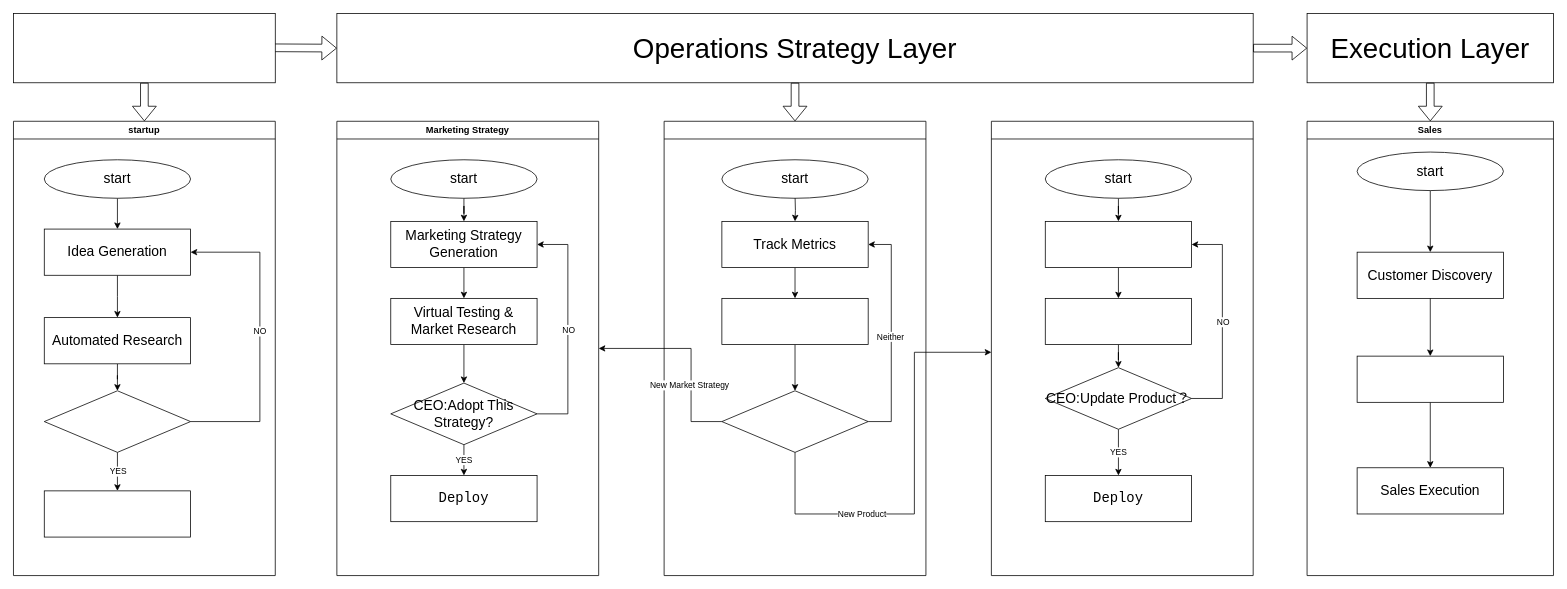
The diagram is 1567 pixels wide and 589 high, and some of its shapes have lost their labels. The shapes that lost their labels are listed below. From the top down, each one's box as (x1, y1, x2, y2) in pixels, then its label:
(13, 13, 275, 83): Startup Layer
(1045, 221, 1192, 268): Generate Product Strategy
(721, 298, 868, 345): Data Analysis
(1045, 298, 1192, 345): Virtual Testing
(663, 121, 926, 576): Performance Monitor
(991, 121, 1253, 576): Product Iteration
(1356, 355, 1503, 402): Customer Outreach
(44, 390, 191, 452): Is the Idea Validated
(721, 390, 868, 452): CEO:Strategic Decision
(44, 490, 191, 537): Generate Web Product and Landing Page
